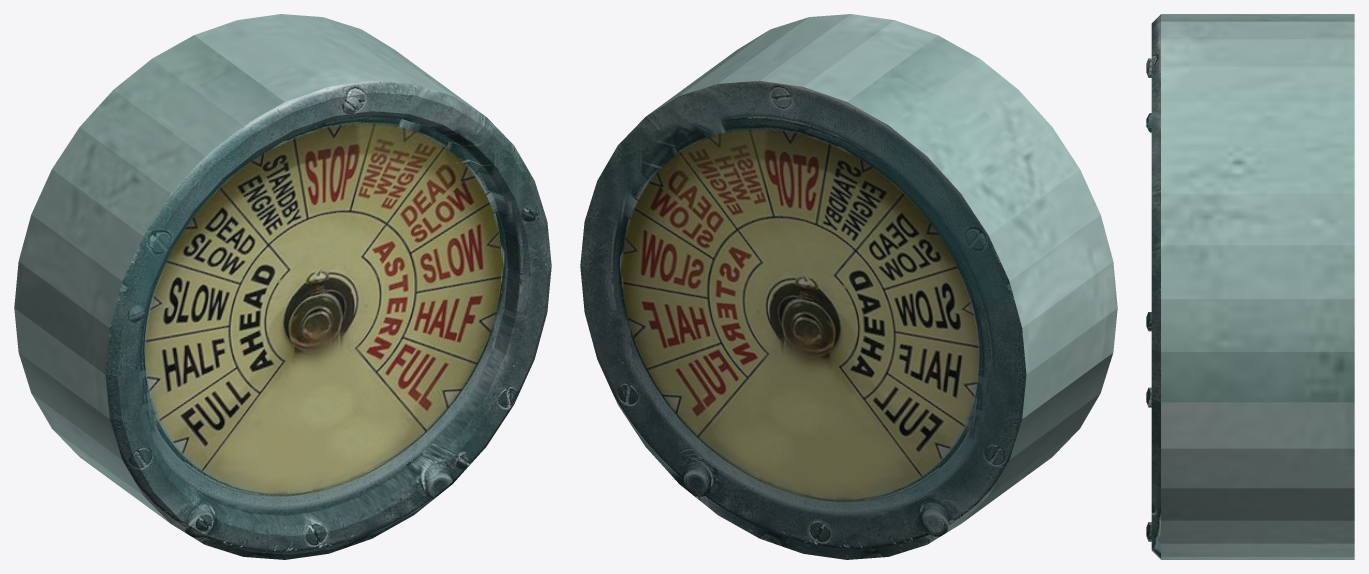
The model's file is engine_signal_body.gltf.
3 renders of one model, left to right at view 1: azimuth 30°, elevation 25°; view 2: azimuth 150°, elevation 25°; view 3: azimuth 270°, elevation 25°, orthographic. The views are drawn at different scales.
Visible parts, largest first — view 1: Cylinder; view 2: Cylinder; view 3: Cylinder.
Boxes of the visible parts, x1,y1,x2,y2 form: Cylinder: [14, 14, 551, 559]; Cylinder: [580, 14, 1117, 559]; Cylinder: [1146, 14, 1354, 559].
Bounding box in the file's own units: 1.48 × 1.48 × 0.5635.
Materials: 1 (1 with a texture image).
